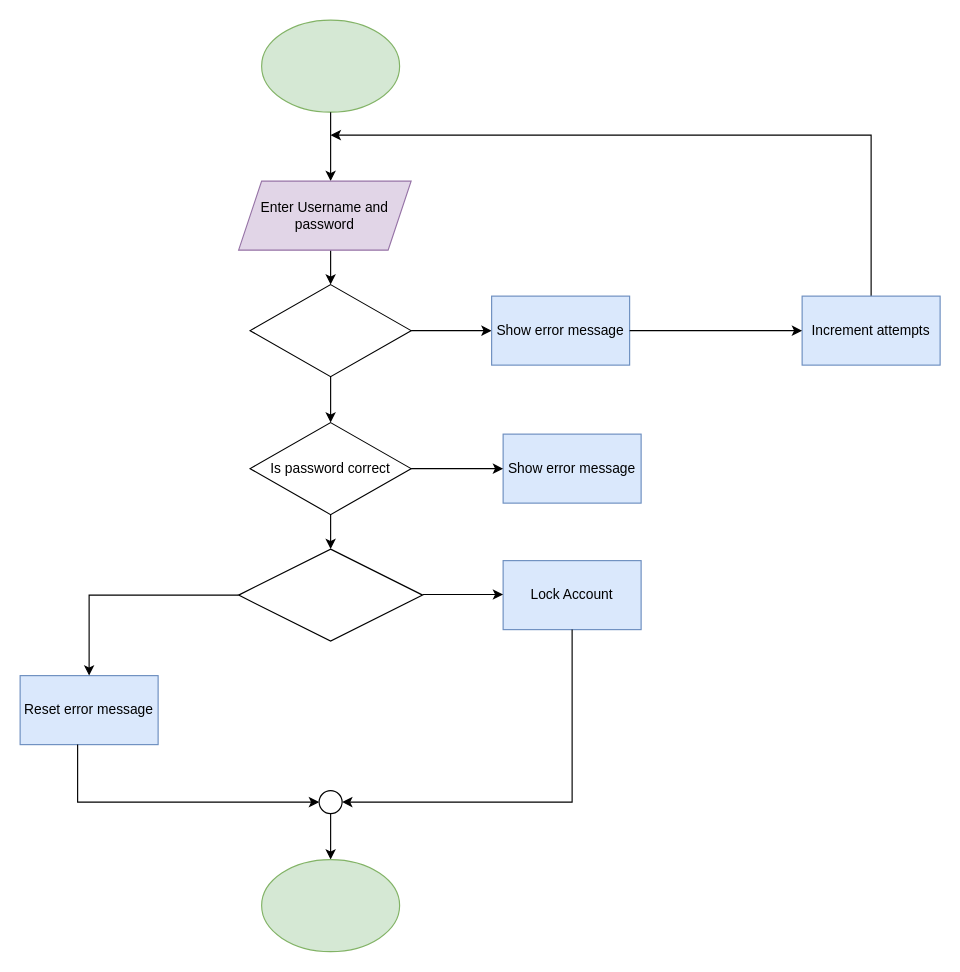
Image size: 960x972. Some labels were removed from this diagram. The centre of each missing label's shape, as x and y in pixels:
Have 3 attempts been exceeded?: point 330,594
Is username valid: point 330,330
System Off: point 330,905
System On: point 330,65
